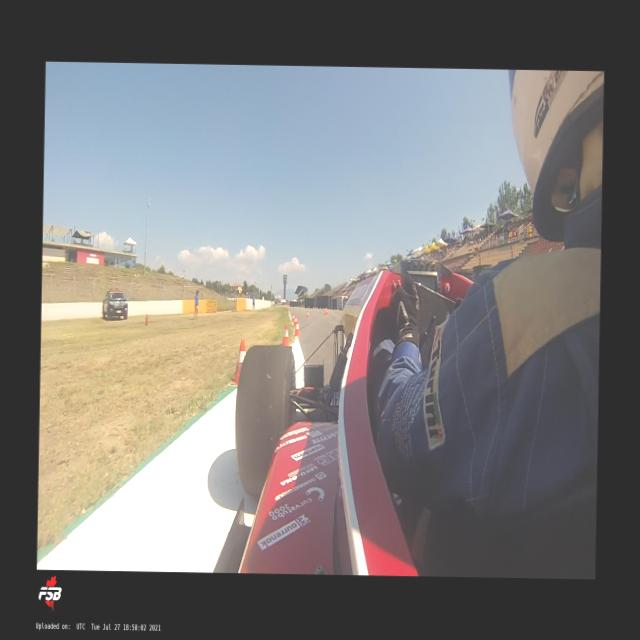orange_cone: (231, 340, 246, 384), (282, 324, 288, 344), (294, 320, 299, 335), (294, 316, 296, 326), (292, 313, 294, 321), (306, 312, 308, 318), (324, 310, 326, 314)
